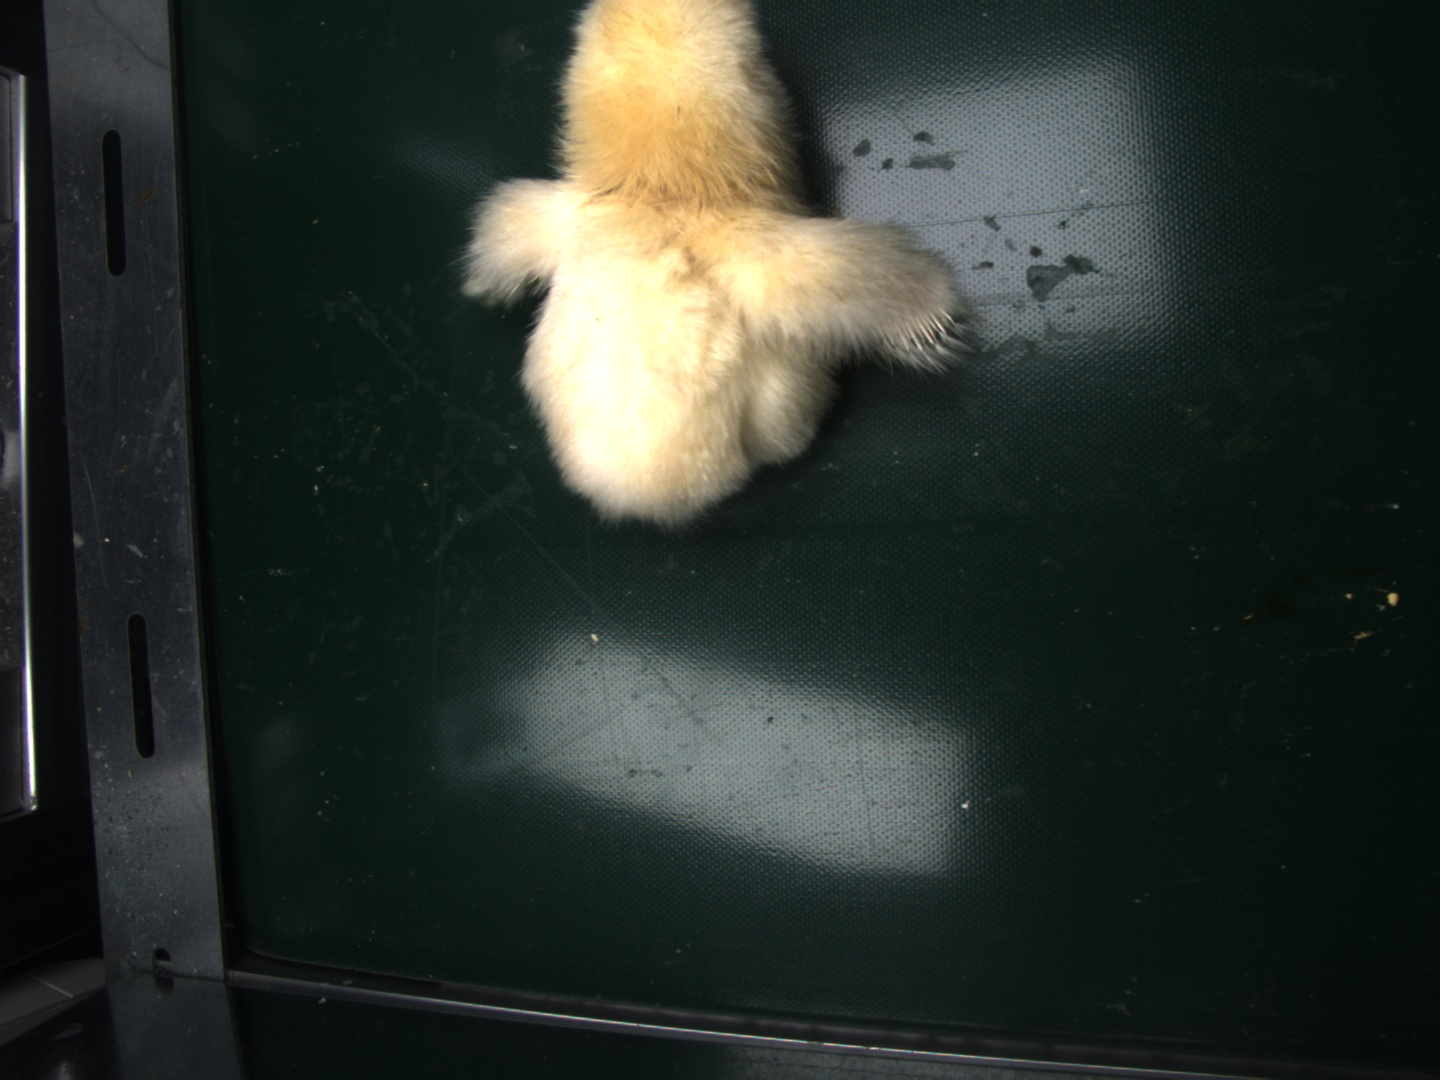male: (886, 307, 950, 353)
